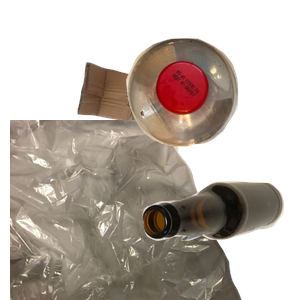cardboard: (75, 59, 237, 176)
glass: (140, 179, 300, 300)
plastic: (124, 36, 300, 175)
trash: (10, 120, 244, 300)
